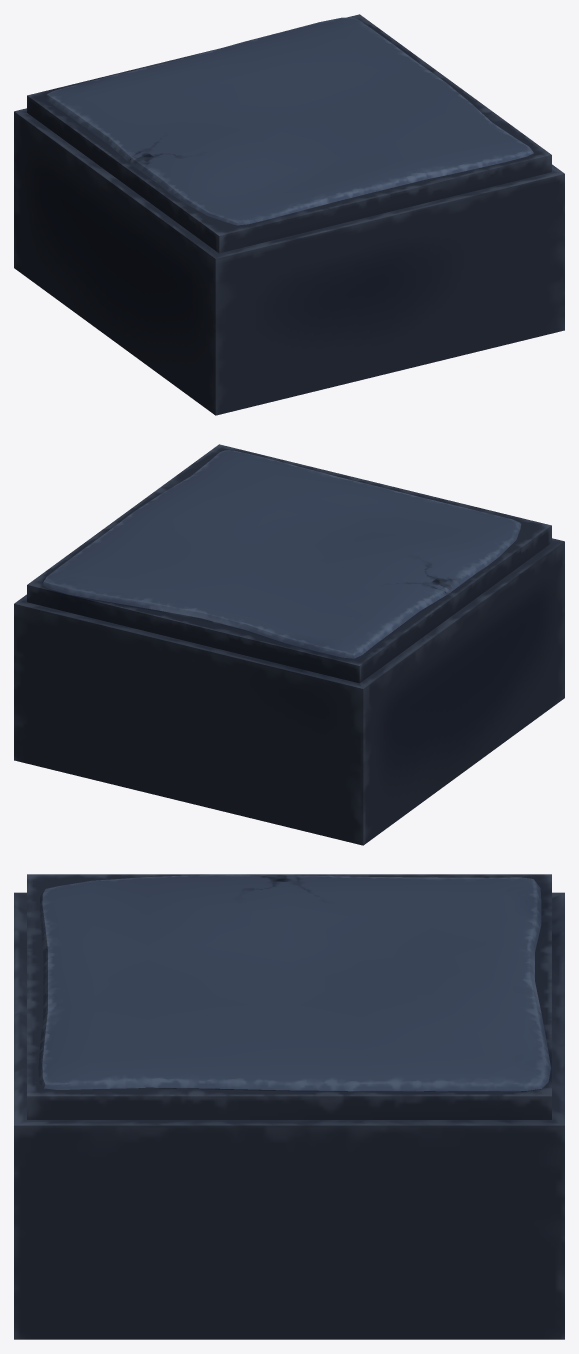
The model's file is Floor1-3.fbx.
3 renders of one model, top to bottom at view 1: azimuth 30°, elevation 25°; view 2: azimuth 150°, elevation 25°; view 3: azimuth 270°, elevation 25°, orthographic. The views are drawn at different scales.
Visible parts, largest first — view 1: FloorTileB1; view 2: FloorTileB1; view 3: FloorTileB1.
Boxes of the visible parts, left/top/right/bottom form: FloorTileB1: left=14, top=14, right=564, bottom=415; FloorTileB1: left=14, top=444, right=564, bottom=845; FloorTileB1: left=14, top=874, right=564, bottom=1339.
Size of the model in its own units: 2.1 by 1.07 by 2.1.
